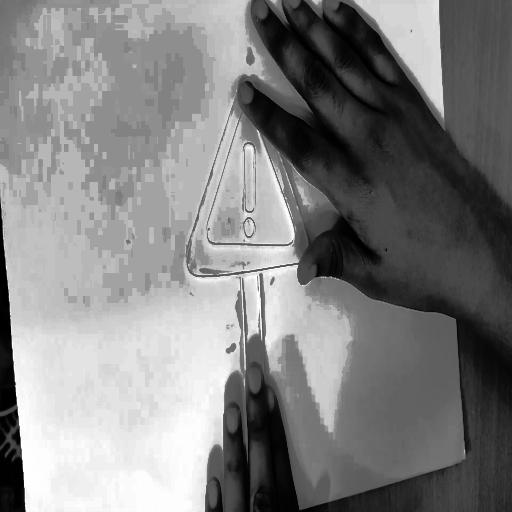bottom_right: (461, 451, 469, 469)
signboard: (154, 59, 340, 449)
